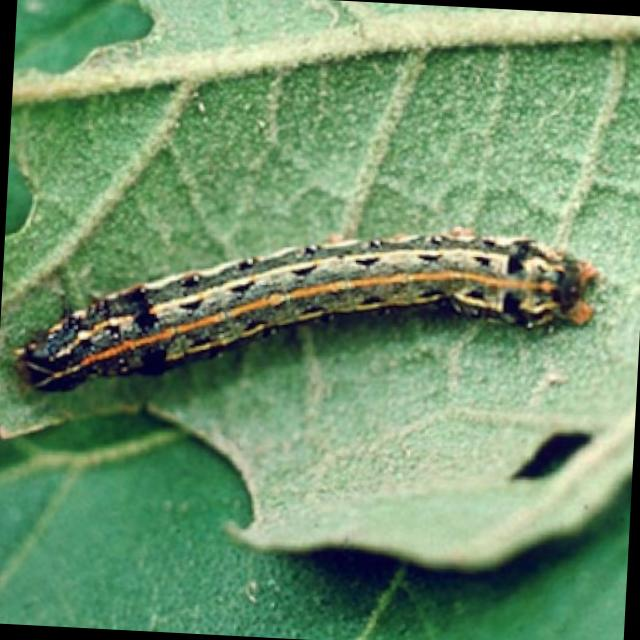Armyworm: (1, 211, 629, 423)
Armyworm_damage: (479, 392, 636, 493)
